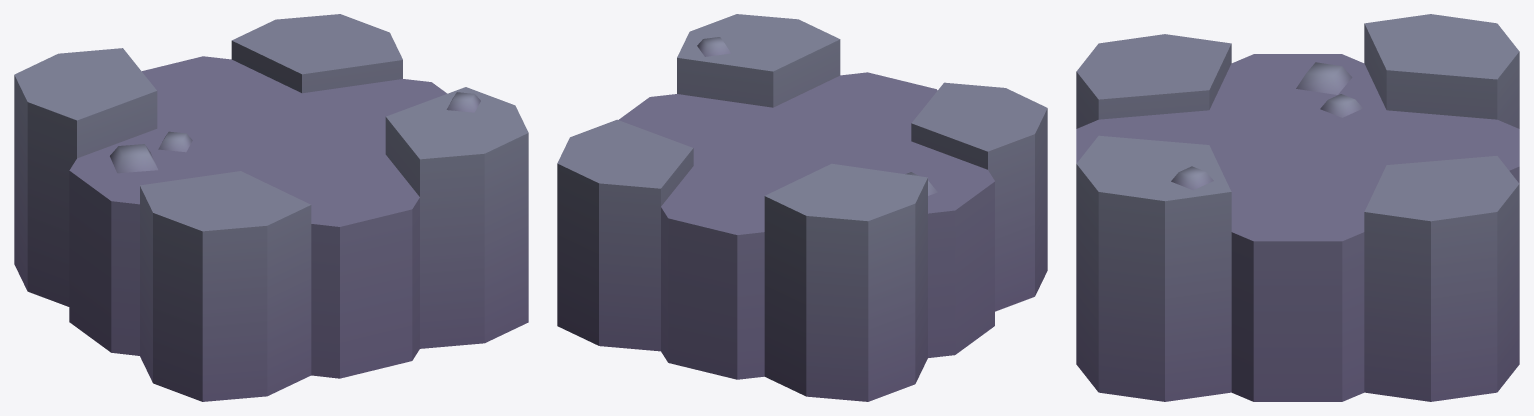
3 renders of one model, left to right at view 1: azimuth 30°, elevation 25°; view 2: azimuth 150°, elevation 25°; view 3: azimuth 270°, elevation 25°, orthographic. The views are drawn at different scales.
Visible parts, largest first — view 1: rocks-low; view 2: rocks-low; view 3: rocks-low.
Part boxes in pixels (left/top/right/bottom): rocks-low: left=14, top=14, right=528, bottom=401; rocks-low: left=557, top=14, right=1047, bottom=401; rocks-low: left=1076, top=14, right=1519, bottom=401.
Size of the model in its own units: 1 by 0.5228 by 1.
1 material, 1 textured.
